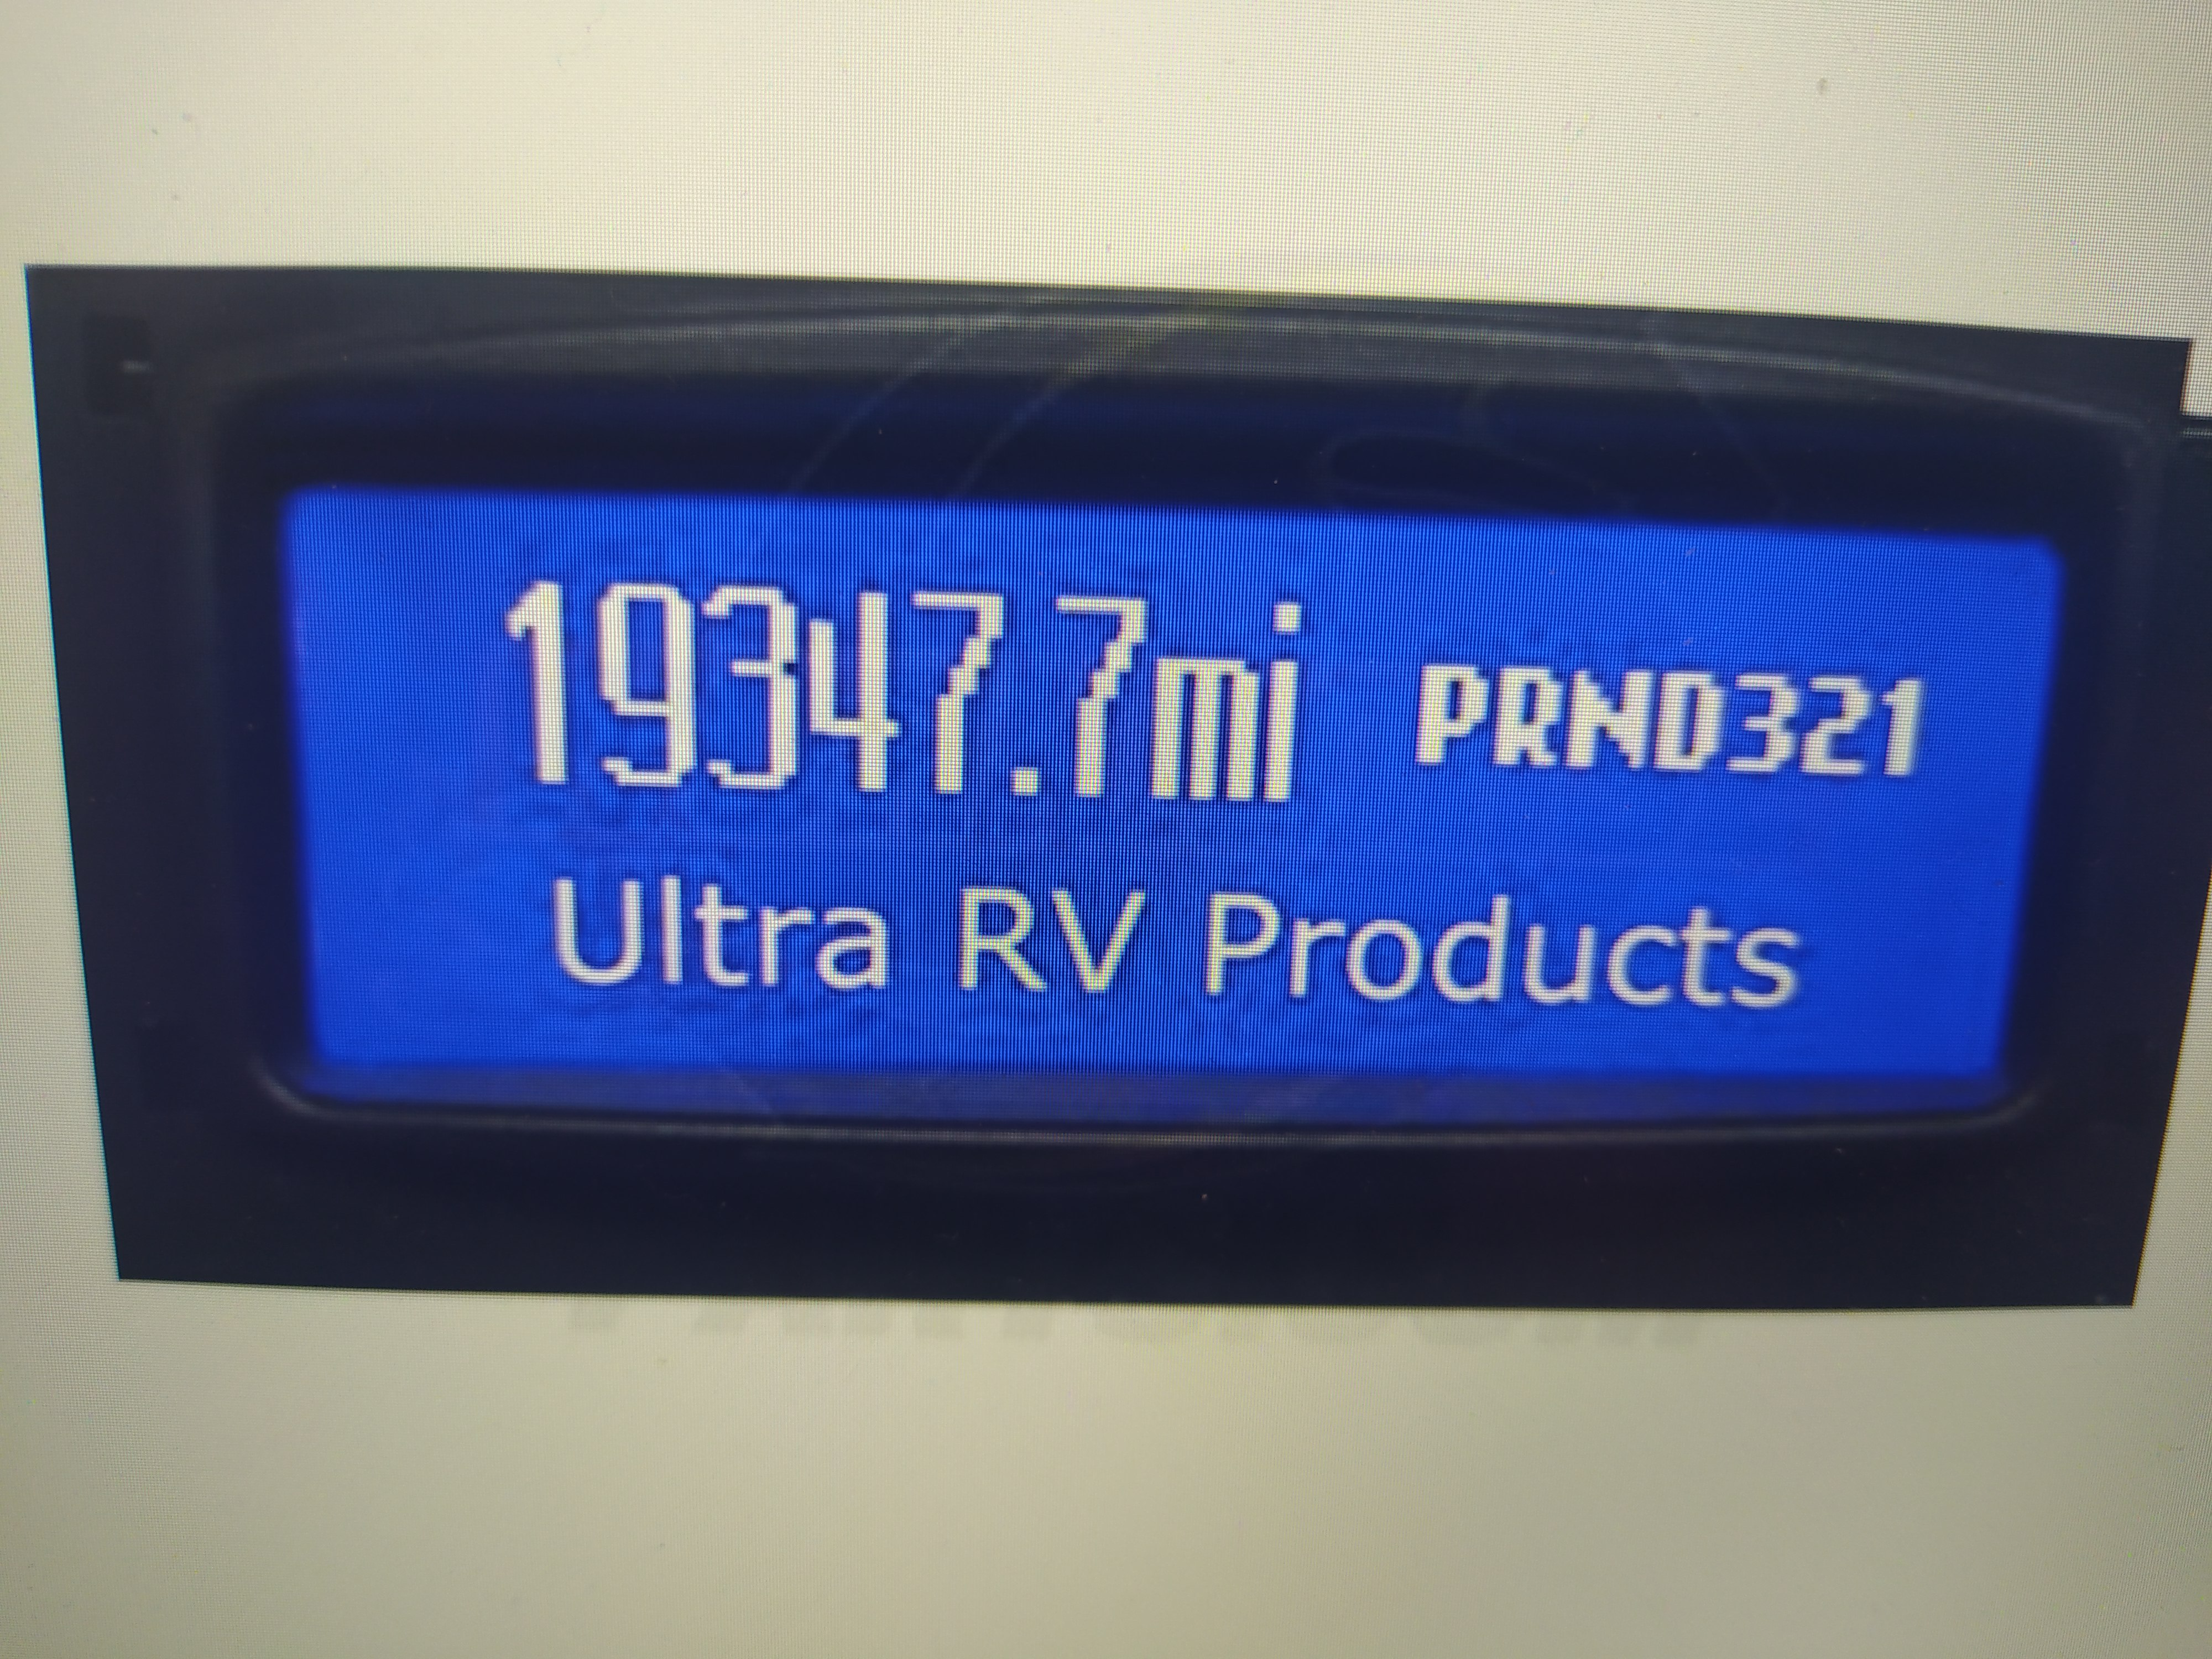.: (1010, 558, 1042, 812)
1: (498, 565, 580, 789)
3: (702, 561, 803, 803)
4: (805, 559, 907, 807)
7: (1045, 558, 1146, 816), (909, 559, 1010, 810)
9: (594, 565, 698, 798)
